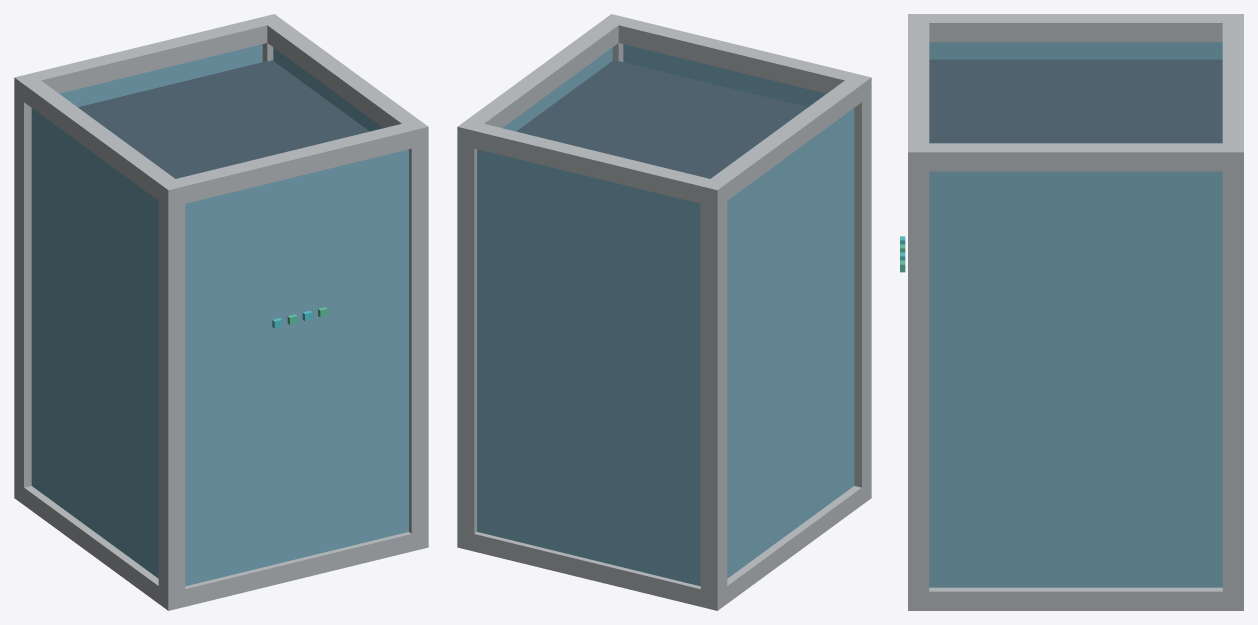
The model's file is 59_L79_ESDGuardedTransferStation.glb.
3 renders of one model, left to right at view 1: azimuth 30°, elevation 25°; view 2: azimuth 150°, elevation 25°; view 3: azimuth 270°, elevation 25°, orthographic. The views are drawn at different scales.
Visible parts, largest first — view 1: ESDGuardedTransferStation_Node_0013, ESDGuardedTransferStation_Node_0014, ESDGuardedTransferStation_Node_0023, ESDGuardedTransferStation_Node_0001, ESDGuardedTransferStation_Node_0003, ESDGuardedTransferStation_Node_0000, ESDGuardedTransferStation_Node_0009, ESDGuardedTransferStation_Node_0008, ESDGuardedTransferStation_Node_0005, ESDGuardedTransferStation_Node_0010, ESDGuardedTransferStation_Node_0011, ESDGuardedTransferStation_Node_0012 (+2 smaller); view 2: ESDGuardedTransferStation_Node_0012, ESDGuardedTransferStation_Node_0014, ESDGuardedTransferStation_Node_0023, ESDGuardedTransferStation_Node_0000, ESDGuardedTransferStation_Node_0002, ESDGuardedTransferStation_Node_0001, ESDGuardedTransferStation_Node_0008, ESDGuardedTransferStation_Node_0009, ESDGuardedTransferStation_Node_0004, ESDGuardedTransferStation_Node_0010, ESDGuardedTransferStation_Node_0011, ESDGuardedTransferStation_Node_0006 (+2 smaller); view 3: ESDGuardedTransferStation_Node_0015, ESDGuardedTransferStation_Node_0023, ESDGuardedTransferStation_Node_0002, ESDGuardedTransferStation_Node_0003, ESDGuardedTransferStation_Node_0011, ESDGuardedTransferStation_Node_0010, ESDGuardedTransferStation_Node_0007, ESDGuardedTransferStation_Node_0014, ESDGuardedTransferStation_Node_0009, ESDGuardedTransferStation_Node_0008.
Boxes of the visible parts, x1,y1,x2,y2 form: ESDGuardedTransferStation_Node_0013: (185,149,408,586); ESDGuardedTransferStation_Node_0014: (31,108,158,578); ESDGuardedTransferStation_Node_0023: (78,60,369,178); ESDGuardedTransferStation_Node_0001: (158,179,185,610); ESDGuardedTransferStation_Node_0003: (402,119,428,548); ESDGuardedTransferStation_Node_0000: (14,73,35,504); ESDGuardedTransferStation_Node_0009: (159,120,428,207); ESDGuardedTransferStation_Node_0008: (14,14,281,101); ESDGuardedTransferStation_Node_0005: (158,530,428,610); ESDGuardedTransferStation_Node_0010: (14,74,183,206); ESDGuardedTransferStation_Node_0011: (259,14,428,148); ESDGuardedTransferStation_Node_0012: (59,44,262,107); ESDGuardedTransferStation_Node_0012: (477,149,700,586); ESDGuardedTransferStation_Node_0014: (727,108,854,578); ESDGuardedTransferStation_Node_0023: (516,60,807,178); ESDGuardedTransferStation_Node_0000: (700,179,727,610); ESDGuardedTransferStation_Node_0002: (457,119,483,549); ESDGuardedTransferStation_Node_0001: (845,73,871,500); ESDGuardedTransferStation_Node_0008: (457,120,726,207); ESDGuardedTransferStation_Node_0009: (603,15,871,95); ESDGuardedTransferStation_Node_0004: (457,530,727,610); ESDGuardedTransferStation_Node_0010: (700,74,871,204); ESDGuardedTransferStation_Node_0011: (458,14,626,147); ESDGuardedTransferStation_Node_0006: (701,481,871,609); ESDGuardedTransferStation_Node_0015: (929,171,1222,587); ESDGuardedTransferStation_Node_0023: (929,59,1222,143); ESDGuardedTransferStation_Node_0002: (1222,143,1243,610); ESDGuardedTransferStation_Node_0003: (908,143,929,610); ESDGuardedTransferStation_Node_0011: (908,143,1243,171); ESDGuardedTransferStation_Node_0010: (908,14,1243,42); ESDGuardedTransferStation_Node_0007: (908,587,1243,610); ESDGuardedTransferStation_Node_0014: (929,42,1222,59); ESDGuardedTransferStation_Node_0009: (908,14,929,171); ESDGuardedTransferStation_Node_0008: (1222,14,1243,171).
Bounding box in the file's own units: 1.54 × 2.38 × 1.62.
